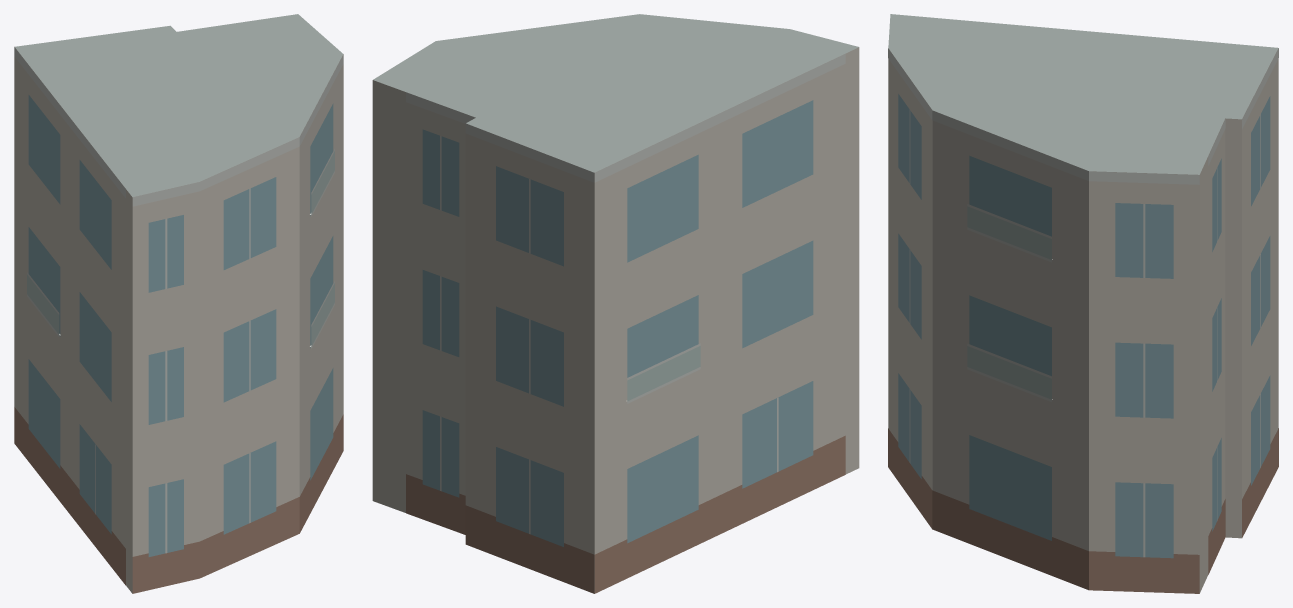
The model's file is survey-upis-32948787.glb.
3 views of the same model, side by side, from view 1: azimuth 30°, elevation 25°; view 2: azimuth 150°, elevation 25°; view 3: azimuth 270°, elevation 25° (orthographic). The views are drawn at different scales.
Parts seen in each view (by area): view 1: survey-upis-32948787.tmp; view 2: survey-upis-32948787.tmp; view 3: survey-upis-32948787.tmp.
Boxes of the visible parts, box(x1,y1,x2,y2) form: survey-upis-32948787.tmp: box(14, 14, 343, 593); survey-upis-32948787.tmp: box(372, 14, 859, 593); survey-upis-32948787.tmp: box(888, 14, 1278, 593).
Bounding box in the file's own units: 8.41 × 10.2 × 8.62.
